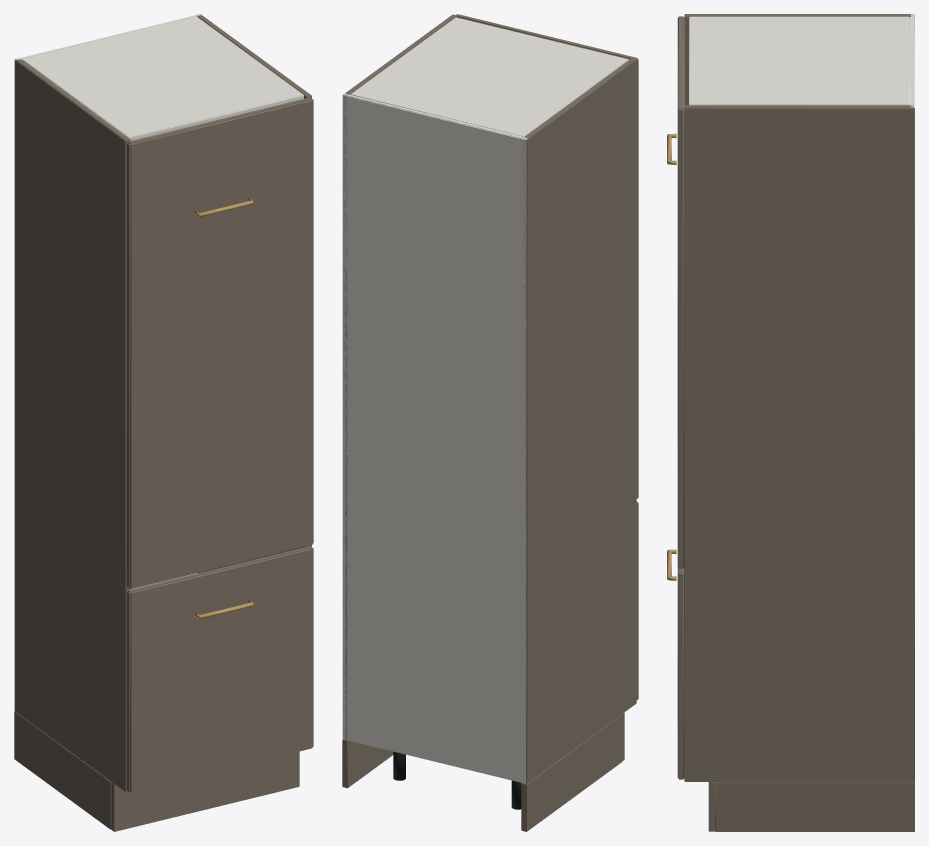
The model's file is contemporary.kitchen_tall.gltf.
The picture shows the model from 3 angles, left to right: view 1: azimuth 30°, elevation 25°; view 2: azimuth 150°, elevation 25°; view 3: azimuth 270°, elevation 25°; orthographic projection. The views are drawn at different scales.
Visible parts, largest first — view 1: contemporary.kitchen_tall.back; view 2: contemporary.kitchen_tall.back; view 3: contemporary.kitchen_tall.back.
Boxes of the visible parts, left/top/right/bottom form: contemporary.kitchen_tall.back: left=14, top=14, right=313, bottom=831; contemporary.kitchen_tall.back: left=342, top=14, right=638, bottom=831; contemporary.kitchen_tall.back: left=667, top=14, right=914, bottom=831.
Bounding box in the file's own units: 0.599 × 2.15 × 0.666.
